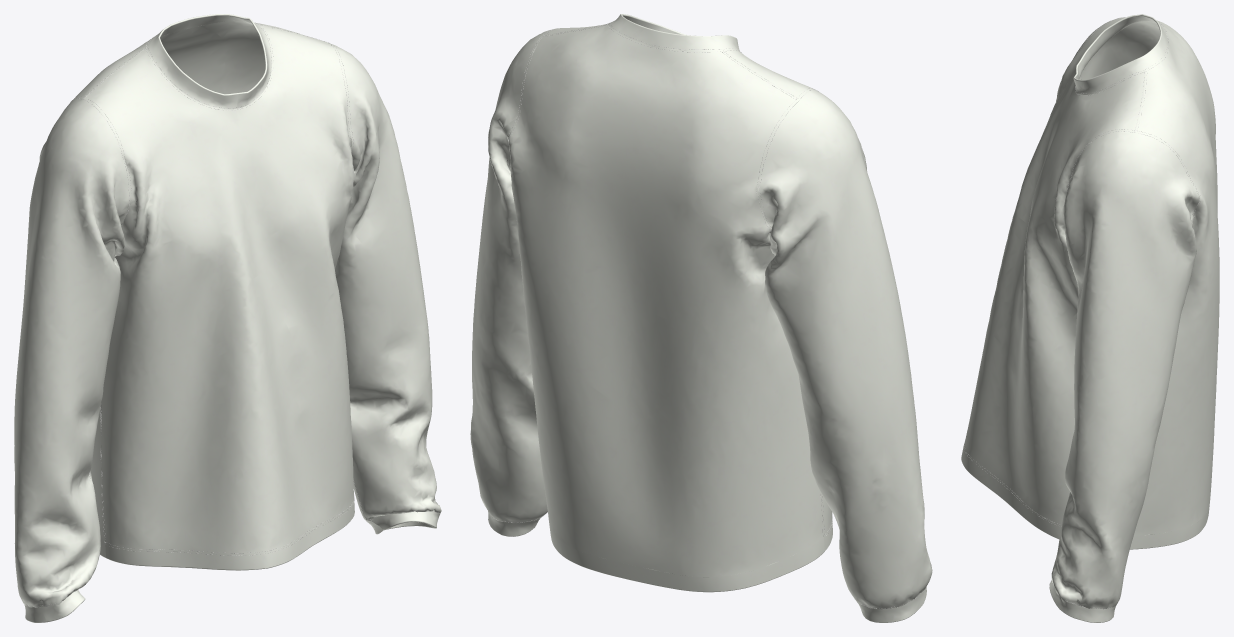
Rendered from longsleeve.glb.
3 renders of one model, left to right at view 1: azimuth 30°, elevation 25°; view 2: azimuth 150°, elevation 25°; view 3: azimuth 270°, elevation 25°, orthographic. The views are drawn at different scales.
Visible parts, largest first — view 1: Long Sleeve T-Shirt_Bahan Dasar_FRONT_2657_0, Long Sleeve T-Shirt_Material2868_0; view 2: Long Sleeve T-Shirt_Bahan Dasar_FRONT_2657_0; view 3: Long Sleeve T-Shirt_Bahan Dasar_FRONT_2657_0, Long Sleeve T-Shirt_Material2868_0.
Part boxes in pixels (bbox=[...]): Long Sleeve T-Shirt_Bahan Dasar_FRONT_2657_0: bbox=[14, 14, 441, 622]; Long Sleeve T-Shirt_Material2868_0: bbox=[27, 22, 438, 606]; Long Sleeve T-Shirt_Bahan Dasar_FRONT_2657_0: bbox=[470, 14, 932, 622]; Long Sleeve T-Shirt_Bahan Dasar_FRONT_2657_0: bbox=[961, 14, 1219, 622]; Long Sleeve T-Shirt_Material2868_0: bbox=[963, 17, 1200, 608].
Bounding box in the file's own units: 0.619 × 0.7566 × 0.3509.
2 materials, 2 textured.
